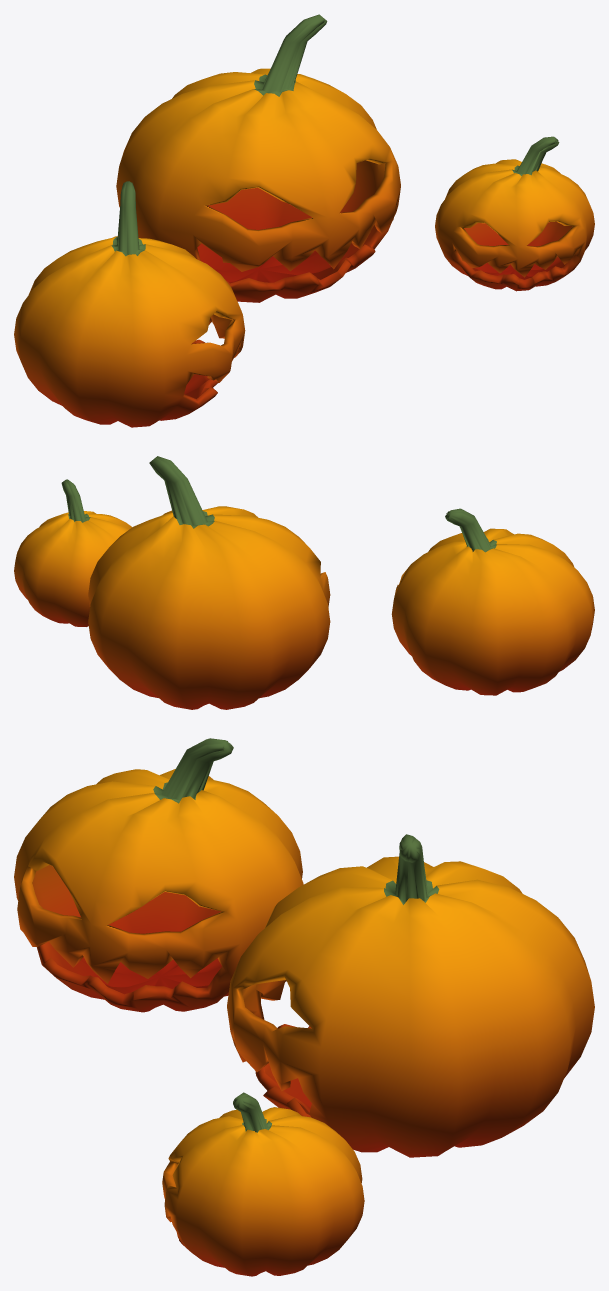
File: Pumpkin.fbx
3 views of the same model, one above another, from view 1: azimuth 30°, elevation 25°; view 2: azimuth 150°, elevation 25°; view 3: azimuth 270°, elevation 25° (orthographic). The views are drawn at different scales.
Visible parts, largest first — view 1: Pumpkin; view 2: Pumpkin; view 3: Pumpkin.
Boxes of the visible parts, x1,y1,x2,y2 form: Pumpkin: (14, 14, 594, 427); Pumpkin: (14, 456, 594, 709); Pumpkin: (14, 738, 594, 1276).
Bounding box in the file's own units: 0.7959 × 0.3309 × 0.5243.
